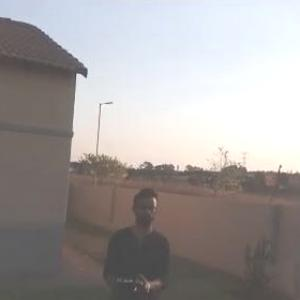follow: (99, 171, 176, 299)
